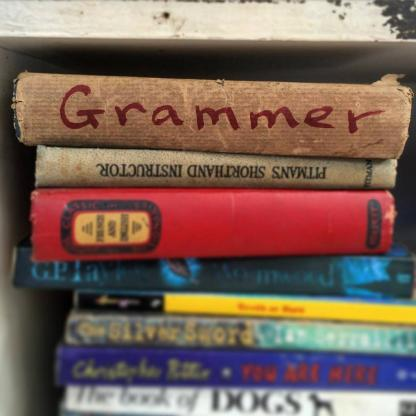book: (19, 72, 415, 148), (34, 188, 394, 263), (9, 246, 416, 294), (54, 343, 416, 391), (62, 309, 416, 354), (36, 143, 396, 187), (64, 382, 416, 416), (75, 289, 416, 323)
